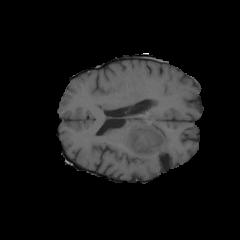glioma: (127, 121, 180, 167)
